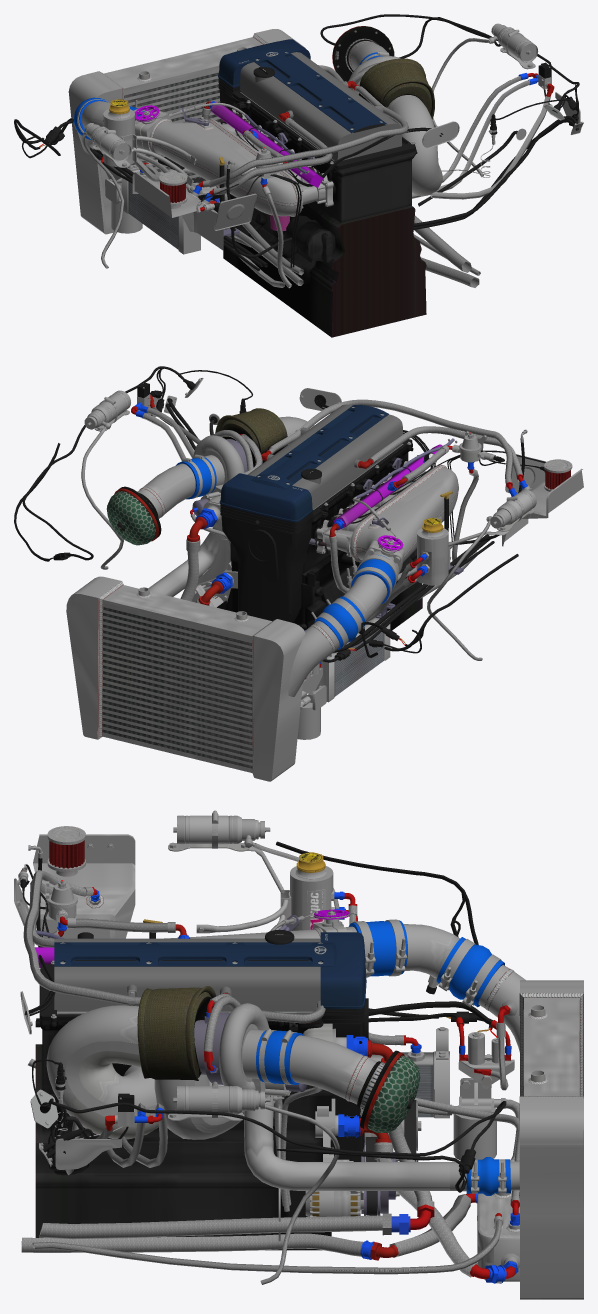
Rendered from eng-i6-30-legend.glb.
The picture shows the model from 3 angles, top to bottom: view 1: azimuth 30°, elevation 25°; view 2: azimuth 150°, elevation 25°; view 3: azimuth 270°, elevation 25°; orthographic projection. The views are drawn at different scales.
Parts seen in each view (by area): view 1: Object_10, Object_11, Object_3, Object_12, Object_2, Object_13; view 2: Object_10, Object_3, Object_11, Object_12, Object_2, Object_13; view 3: Object_10, Object_3, Object_11, Object_12, Object_2, Object_13.
Part boxes in pixels (x1,y1,x2,y2): Object_10: [68, 23, 583, 254]; Object_11: [111, 58, 434, 337]; Object_3: [14, 14, 579, 271]; Object_12: [81, 38, 550, 288]; Object_2: [332, 26, 394, 81]; Object_13: [99, 33, 374, 216]; Object_10: [66, 378, 583, 781]; Object_3: [14, 366, 545, 678]; Object_11: [102, 408, 570, 768]; Object_12: [81, 399, 522, 708]; Object_2: [106, 486, 161, 545]; Object_13: [98, 465, 532, 777]; Object_10: [14, 810, 583, 1299]; Object_3: [20, 841, 519, 1283]; Object_11: [35, 840, 432, 1250]; Object_12: [21, 843, 519, 1284]; Object_2: [357, 1050, 420, 1132]; Object_13: [86, 894, 583, 1232].
Size of the model in its own units: 1.56 by 0.7148 by 1.23.
6 materials, 6 textured.
